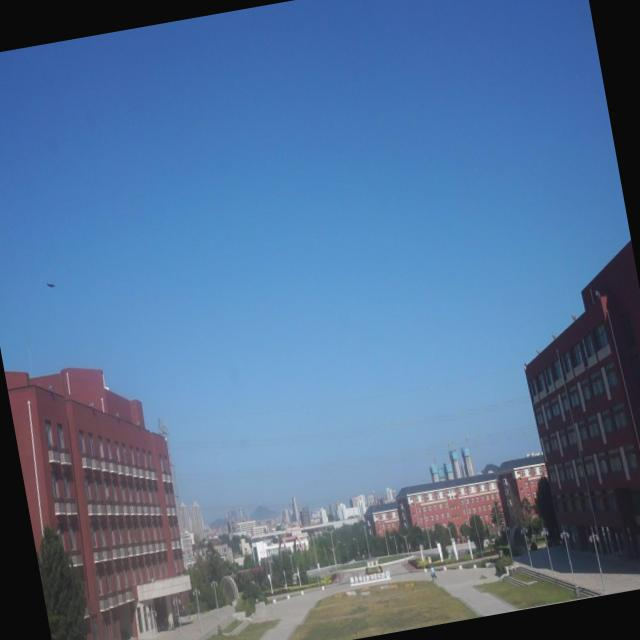drone: (44, 277, 56, 293)
